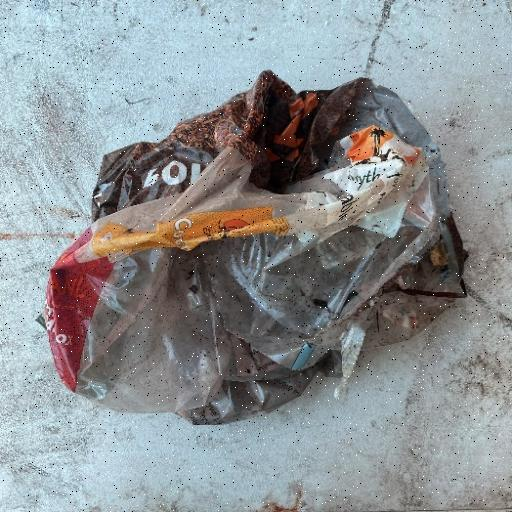Plastic: (39, 70, 468, 426)
